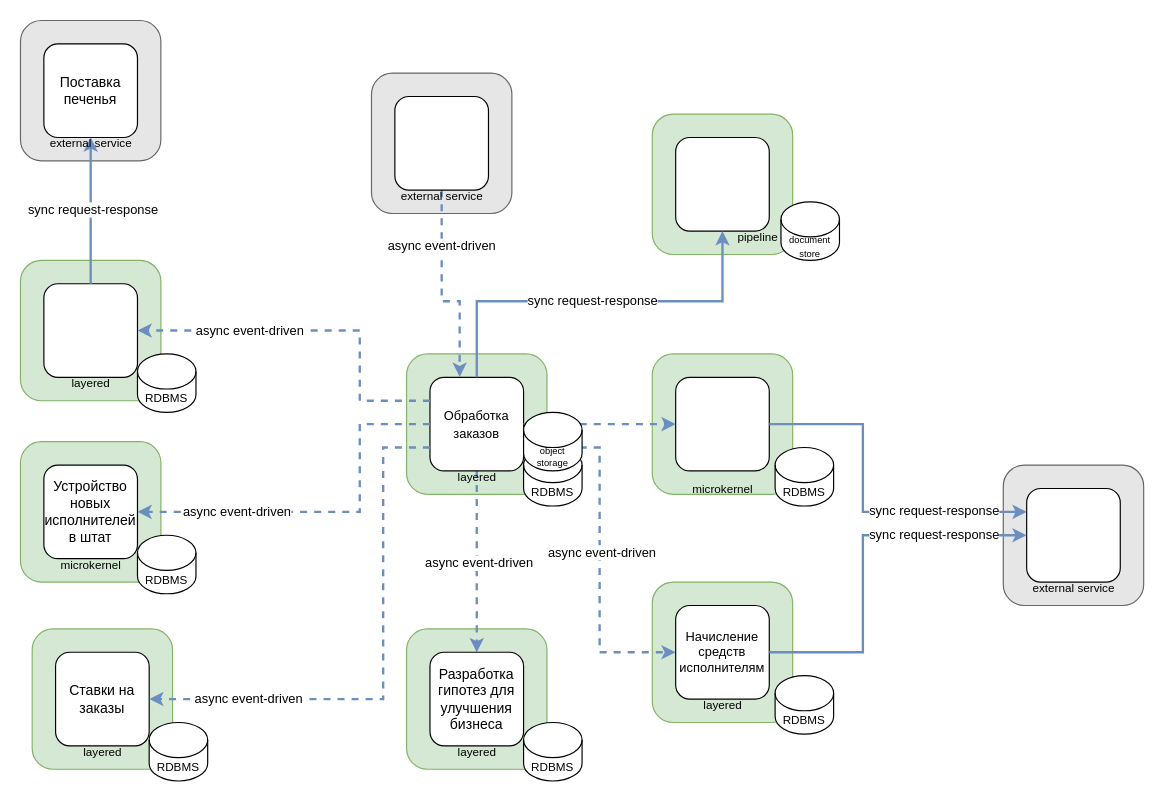
Some shapes in this 1164 by 801 pixel diagram are drawn without their labels. Each missing label, with the centre of its shape:
"HCB" belongs at (x=441, y=142).
"Алгоритм матчинга" belongs at (x=722, y=183).
"Платёжный сервис" belongs at (x=1073, y=534).
"Сборка расходников" belongs at (x=90, y=330).
"Списание средств у пользователей" belongs at (x=722, y=423).
